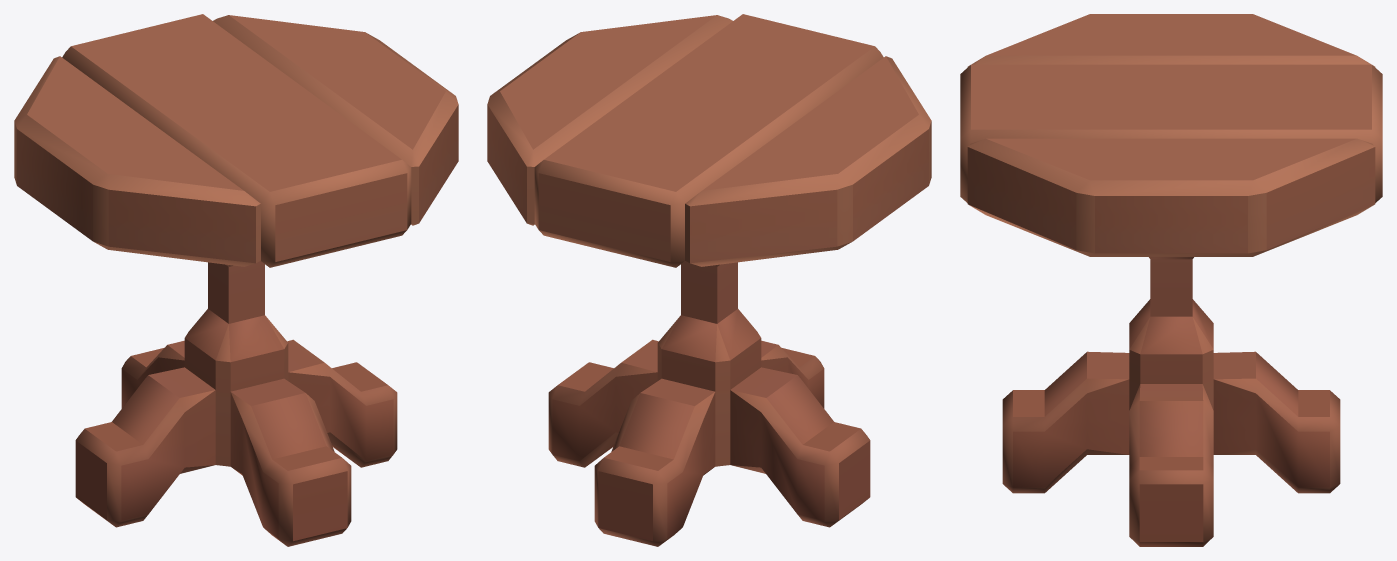
Rendered from table_round_small.glb.
3 views of the same model, side by side, from view 1: azimuth 30°, elevation 25°; view 2: azimuth 150°, elevation 25°; view 3: azimuth 270°, elevation 25° (orthographic).
Parts seen in each view (by area): view 1: table_round_small; view 2: table_round_small; view 3: table_round_small.
Part boxes in pixels (box(x1,y1,x2,y2)): table_round_small: box(14, 14, 458, 546); table_round_small: box(487, 14, 931, 546); table_round_small: box(960, 14, 1382, 546).
Bounding box in the file's own units: 1 × 1 × 1.
1 material, 1 textured.
